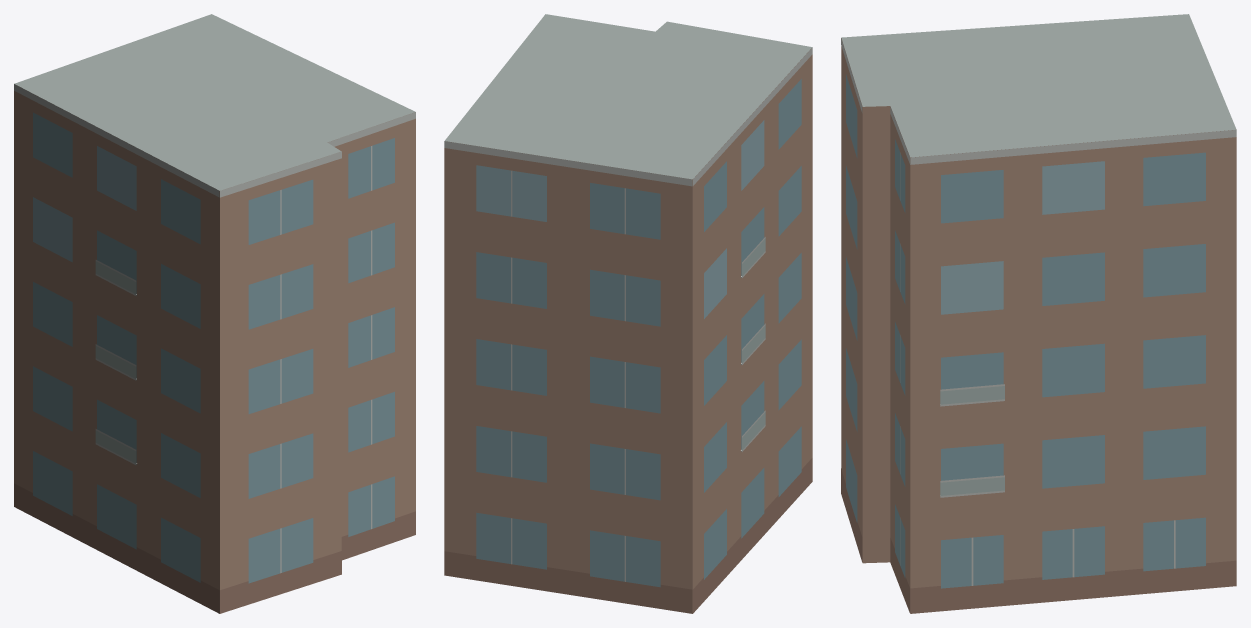
Rendered from survey-upis-32729387.glb.
3 views of the same model, side by side, from view 1: azimuth 30°, elevation 25°; view 2: azimuth 150°, elevation 25°; view 3: azimuth 270°, elevation 25° (orthographic). The views are drawn at different scales.
Visible parts, largest first — view 1: survey-upis-32729387.tmp; view 2: survey-upis-32729387.tmp; view 3: survey-upis-32729387.tmp.
Part boxes in pixels (left/top/right/bottom): survey-upis-32729387.tmp: left=14, top=14, right=415, bottom=613; survey-upis-32729387.tmp: left=444, top=14, right=812, bottom=613; survey-upis-32729387.tmp: left=841, top=14, right=1236, bottom=613.
Bounding box in the file's own units: 10.19 × 15.1 × 11.87.
